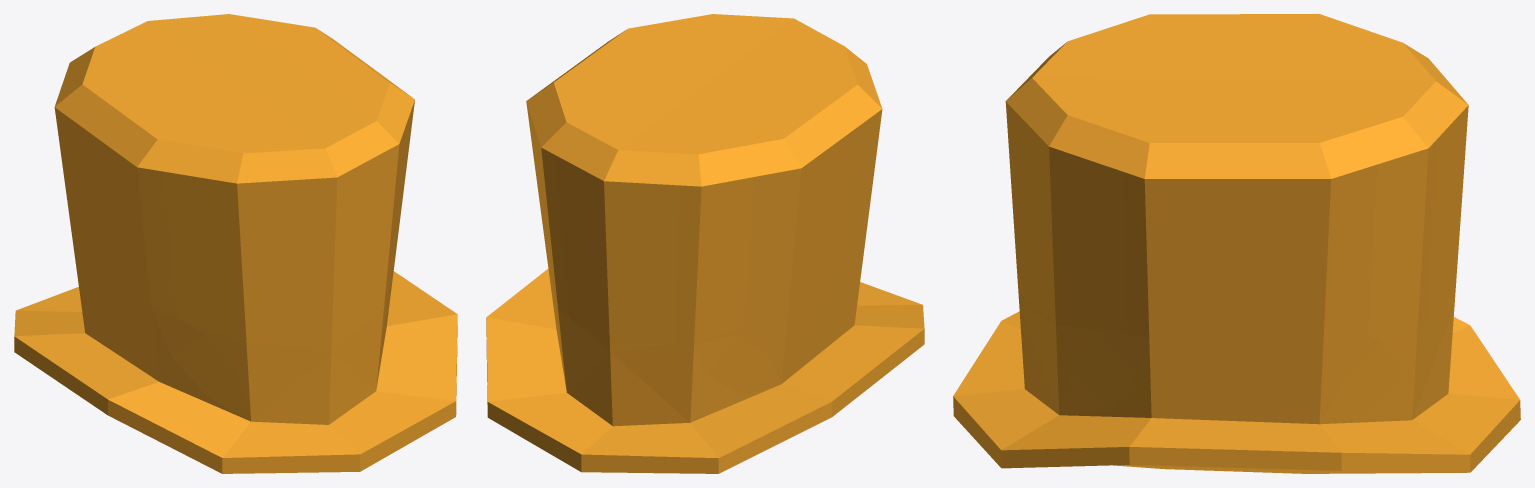
The model's file is SM_Hat_Tophat_4july.fbx.
The picture shows the model from 3 angles, left to right: view 1: azimuth 30°, elevation 25°; view 2: azimuth 150°, elevation 25°; view 3: azimuth 270°, elevation 25°; orthographic projection. The views are drawn at different scales.
Parts seen in each view (by area): view 1: hat-tophat-4july; view 2: hat-tophat-4july; view 3: hat-tophat-4july.
Part boxes in pixels (x1,y1,x2,y2): hat-tophat-4july: (14,14,457,473); hat-tophat-4july: (486,14,924,473); hat-tophat-4july: (953,14,1520,473).
Bounding box in the file's own units: 0.2485 × 0.2113 × 0.3079.
